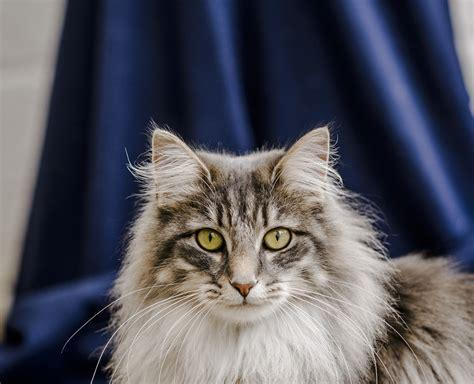cat: (108, 126, 473, 384)
